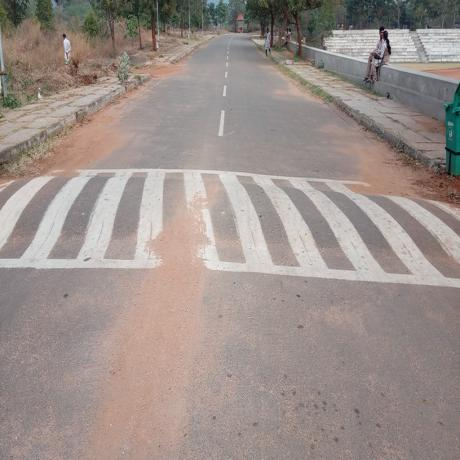Speed Bump: (2, 168, 459, 288)
